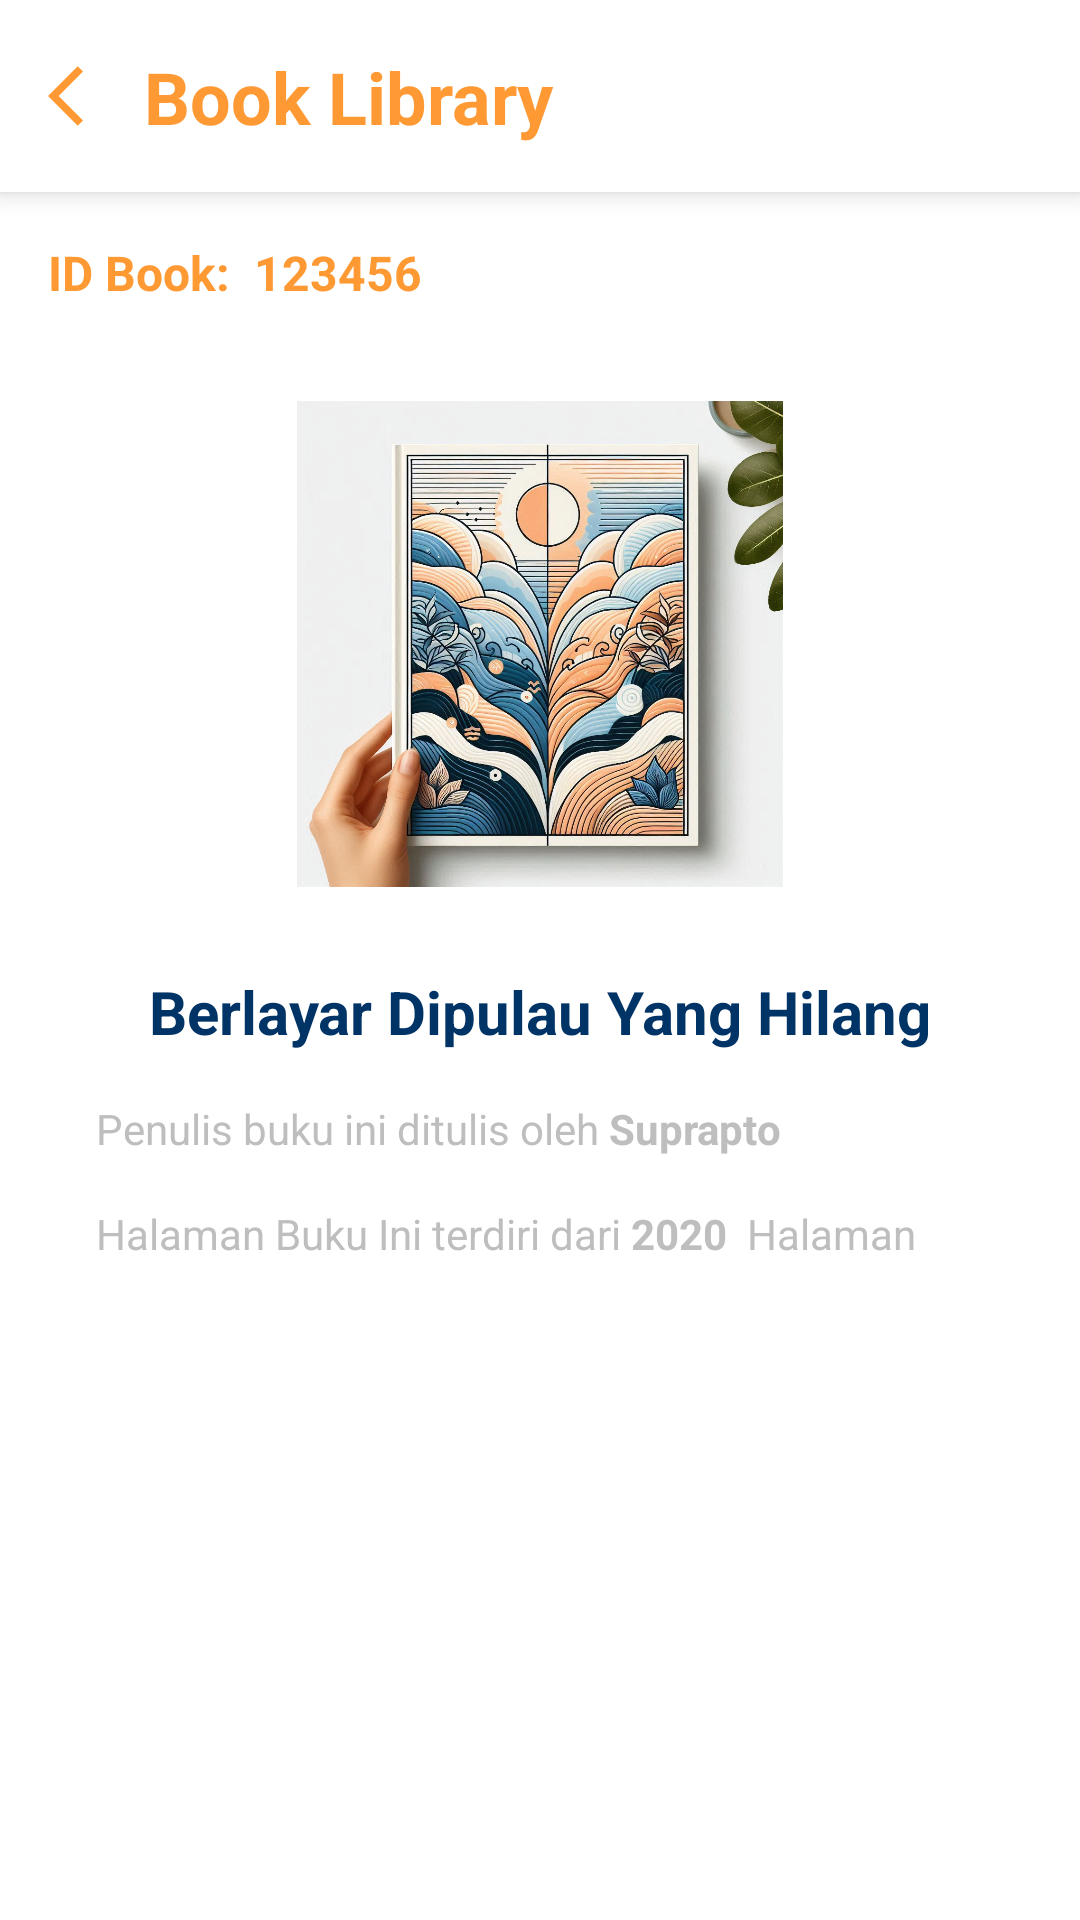

Named icons in this screenshot (1080w x 1920h) and their bounding boxes, bbox=[x1, y1, x2, y2]:
back: bbox=[48, 66, 83, 126]
